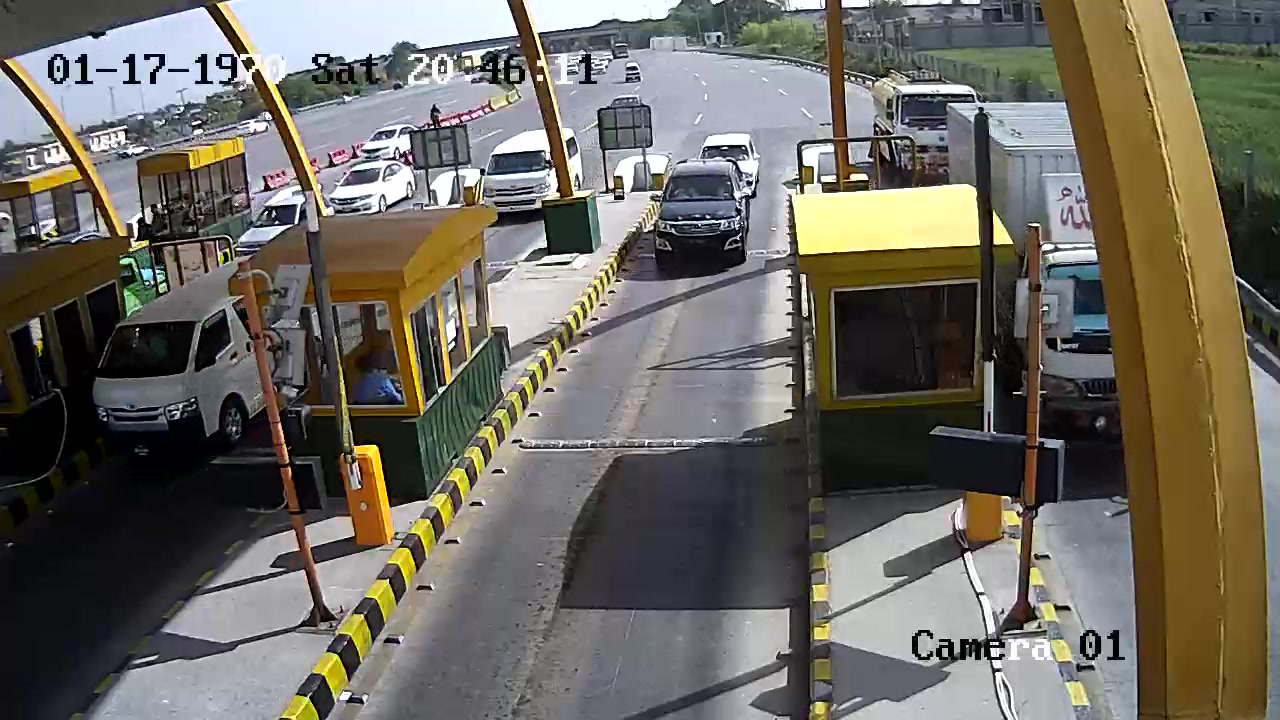F1: (648, 153, 755, 277)
